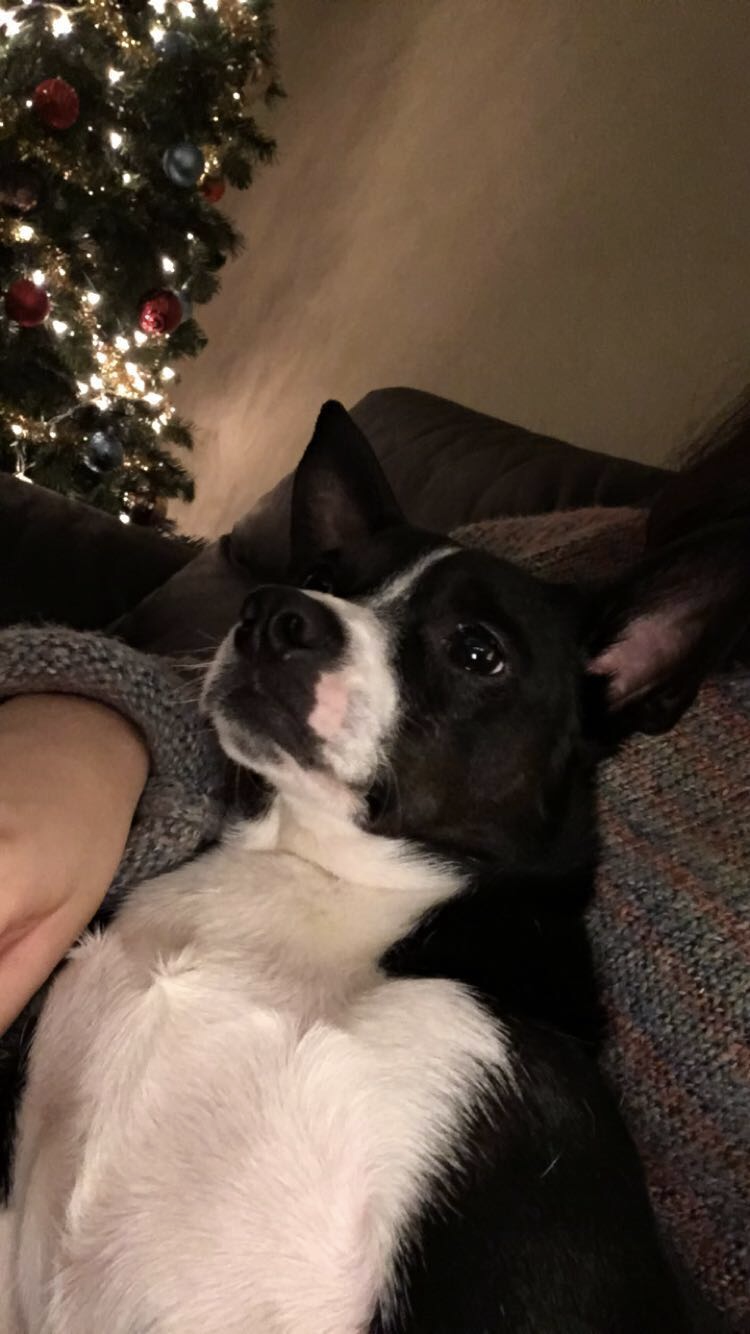Harley: (11, 389, 731, 1320)
